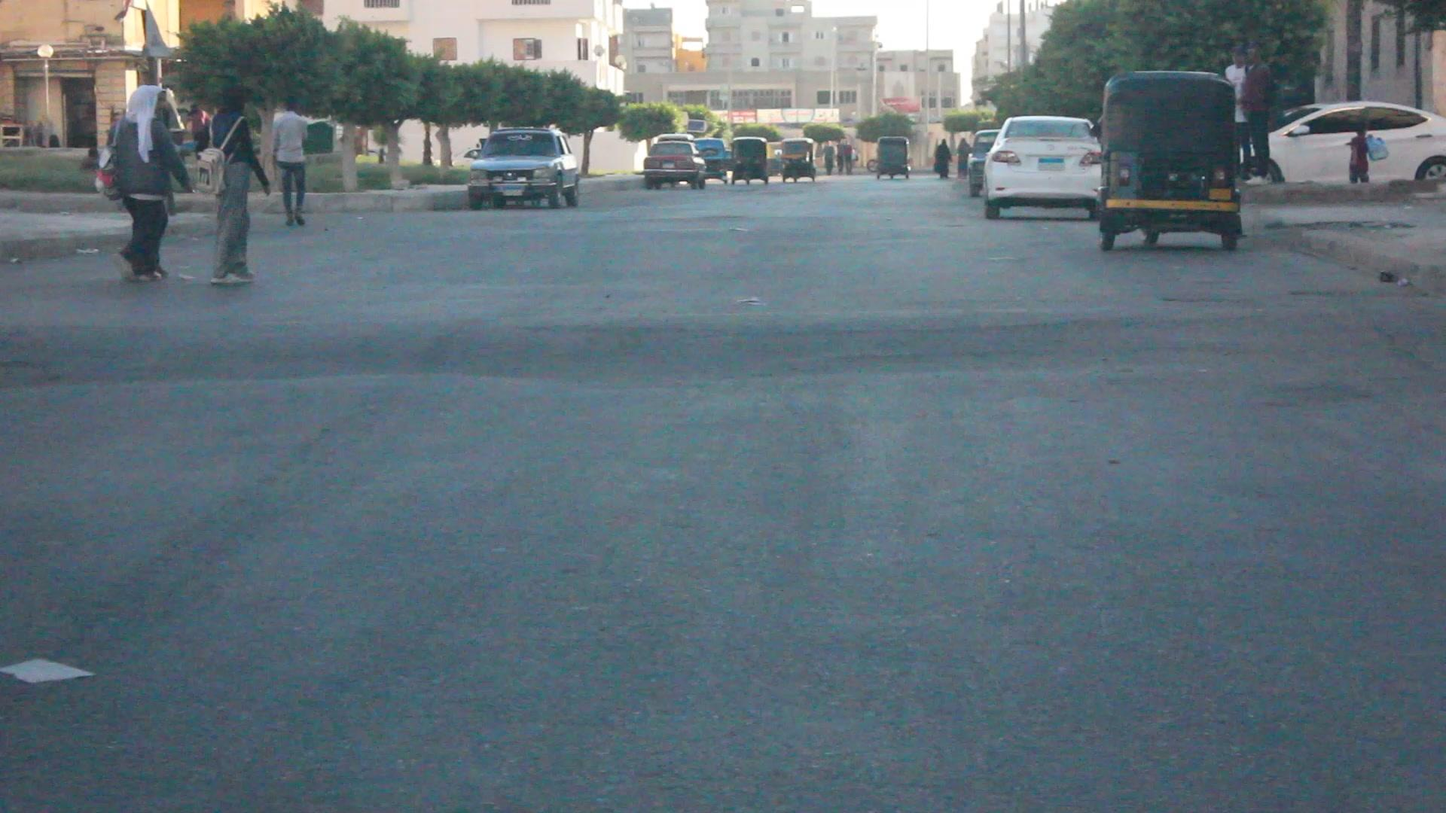Bump: (0, 309, 1446, 401)
